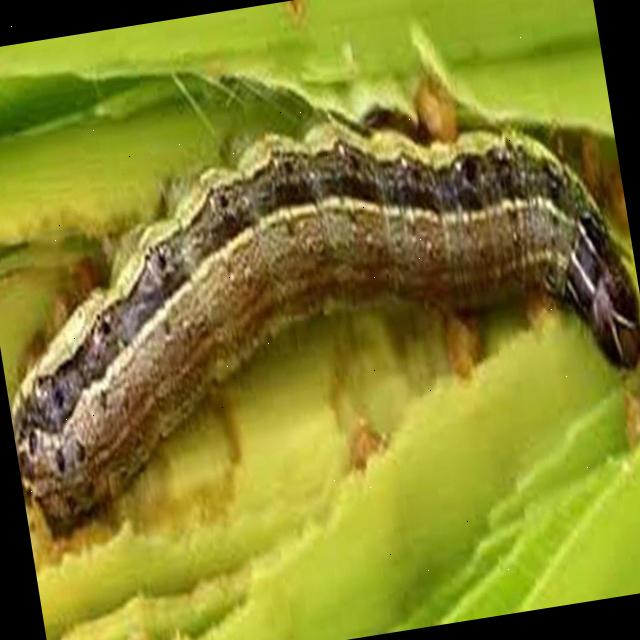worm: (1, 61, 640, 547)
